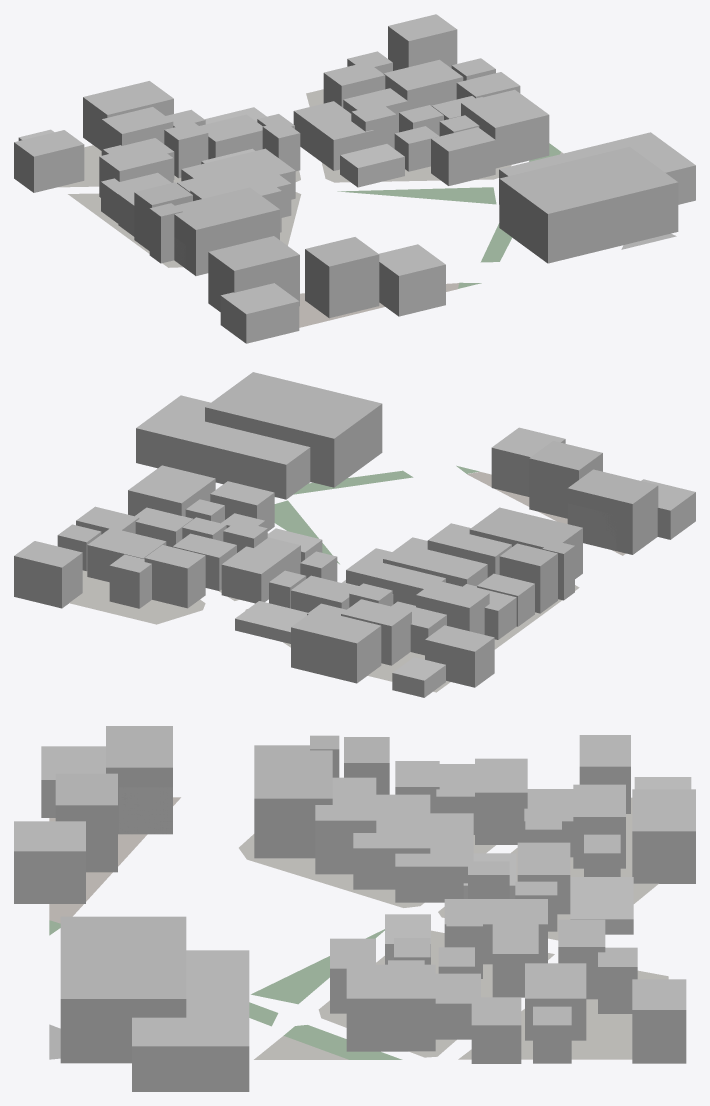
The model's file is 103_92_mid.glb.
3 renders of one model, top to bottom at view 1: azimuth 30°, elevation 25°; view 2: azimuth 150°, elevation 25°; view 3: azimuth 270°, elevation 25°, orthographic. The views are drawn at different scales.
Size of the model in its own units: 591 by 60.65 by 550.
